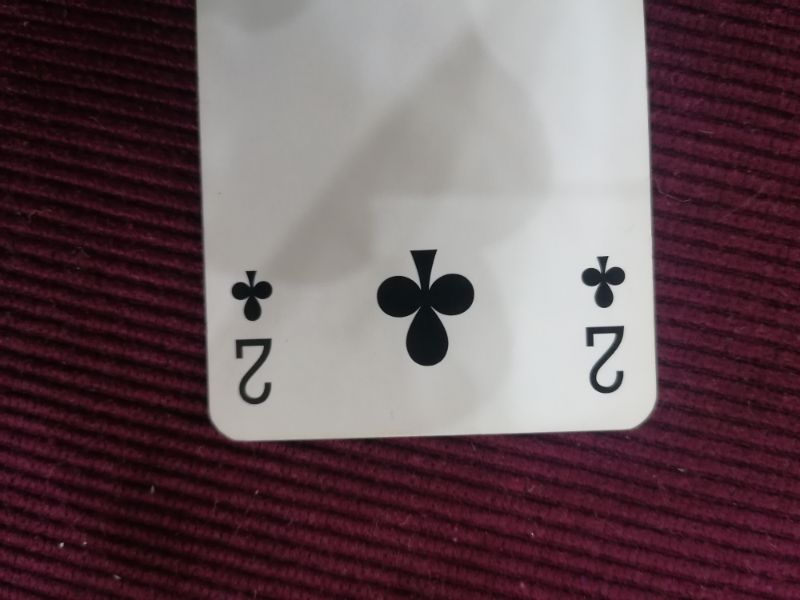2c: (578, 252, 633, 398), (228, 267, 277, 407)
